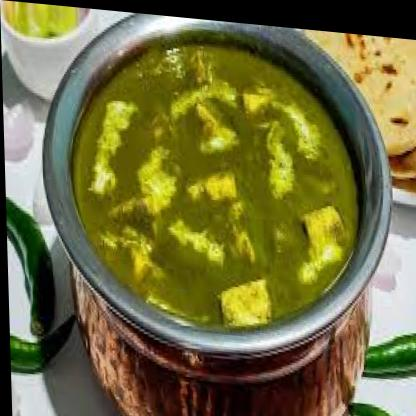palak_paneer: (68, 29, 360, 336)
